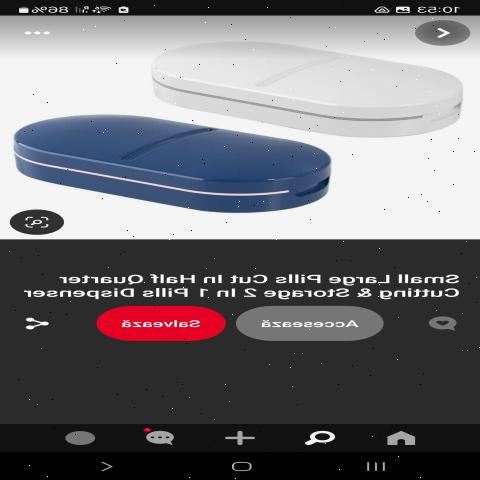Pill: (125, 17, 464, 138)
